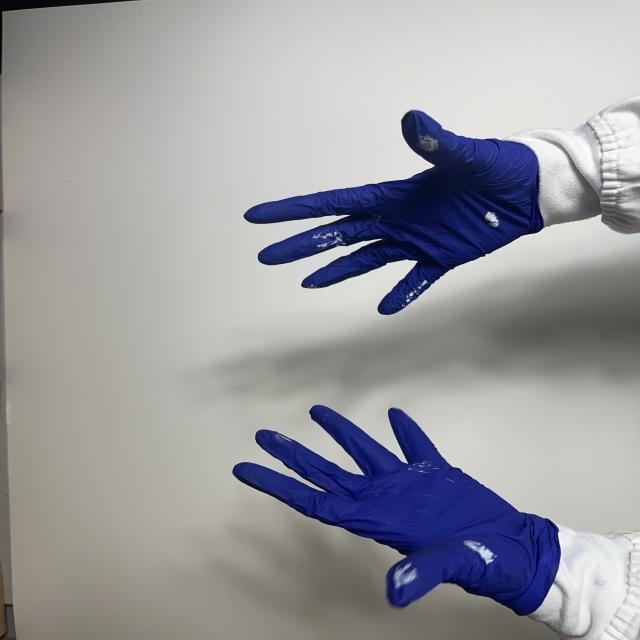gloves_contaminated: (233, 405, 560, 615), (245, 110, 543, 314)
